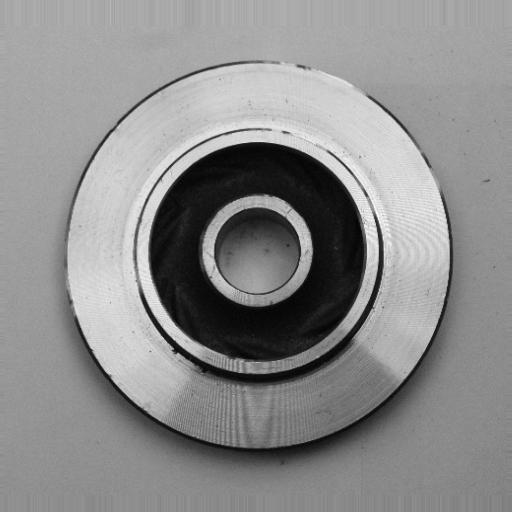scratch: (263, 117, 340, 161)
unpolished_casting: (60, 57, 454, 455)
